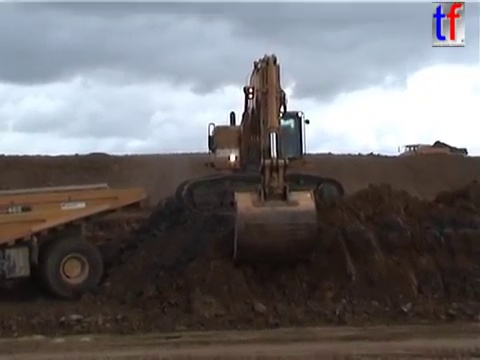excavator: (172, 51, 348, 267)
truck: (1, 180, 151, 303), (394, 142, 469, 168)
